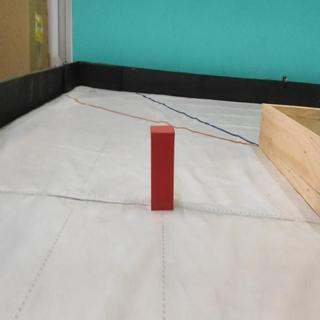redbox: (149, 124, 174, 210)
